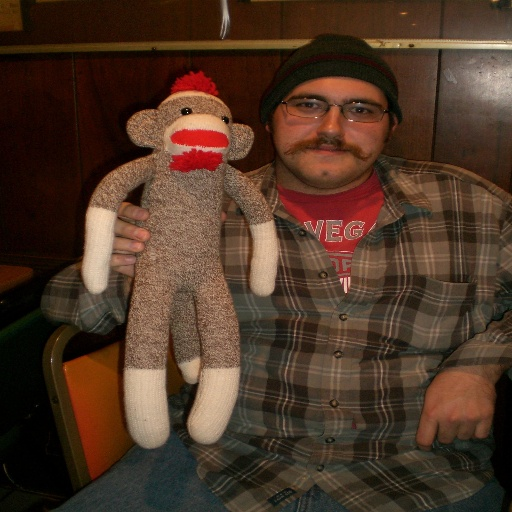hand: (107, 201, 227, 281), (424, 348, 506, 453)
